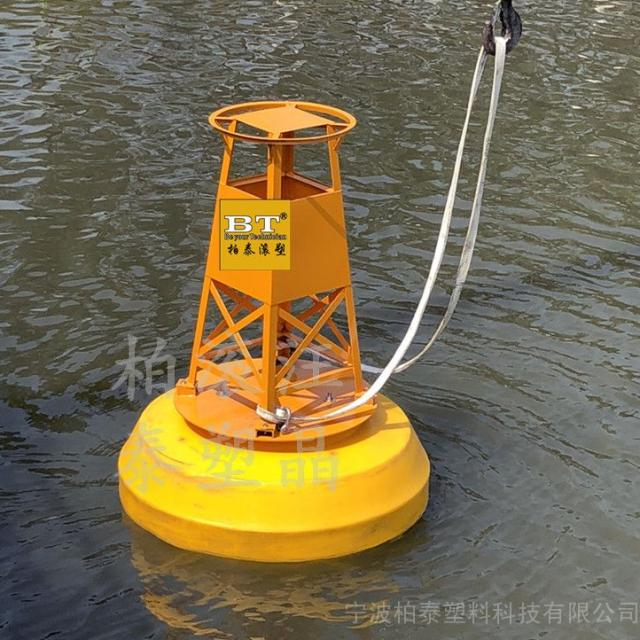buoy: (112, 84, 439, 566)
